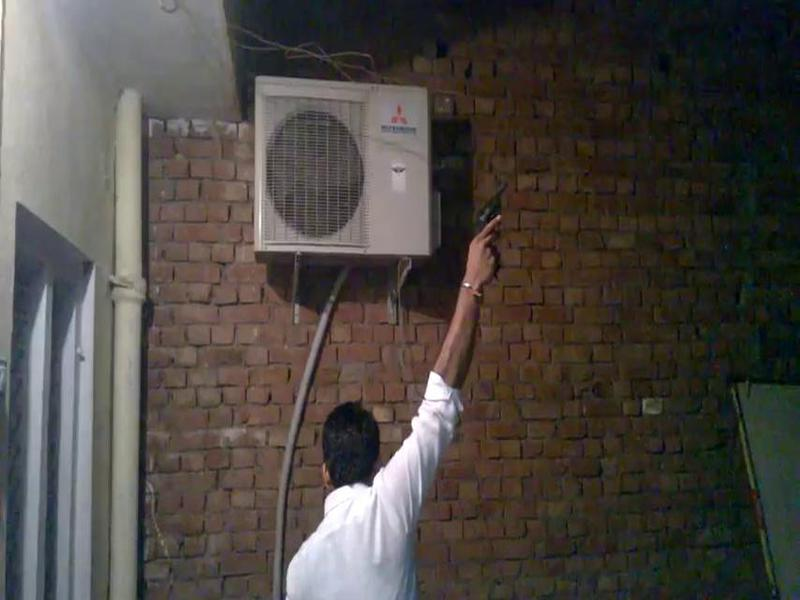Revolver: (468, 179, 541, 284)
